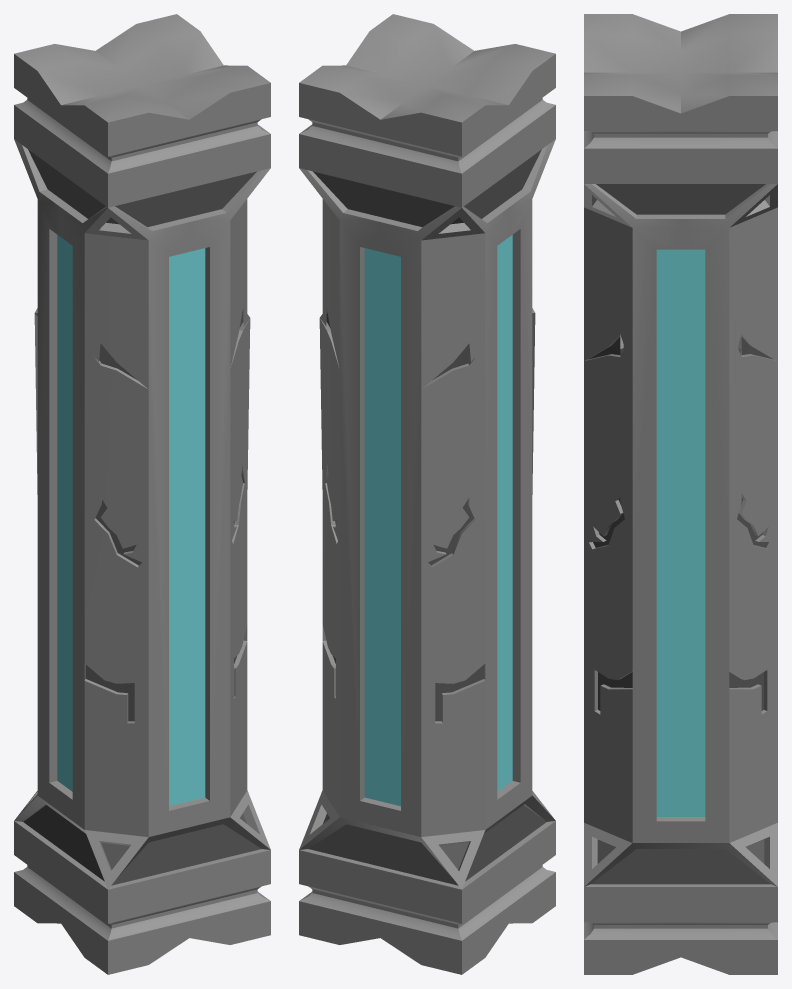
File: Boxy Column x10.fbx
3 views of the same model, side by side, from view 1: azimuth 30°, elevation 25°; view 2: azimuth 150°, elevation 25°; view 3: azimuth 270°, elevation 25° (orthographic). The views are drawn at different scales.
Visible parts, largest first — view 1: Boxy Column x10; view 2: Boxy Column x10; view 3: Boxy Column x10.
Boxes of the visible parts, <box> form: Boxy Column x10: <box>14,14,270,974</box>; Boxy Column x10: <box>299,14,555,974</box>; Boxy Column x10: <box>584,14,777,974</box>.
Size of the model in its own units: 200 by 1000 by 200.
